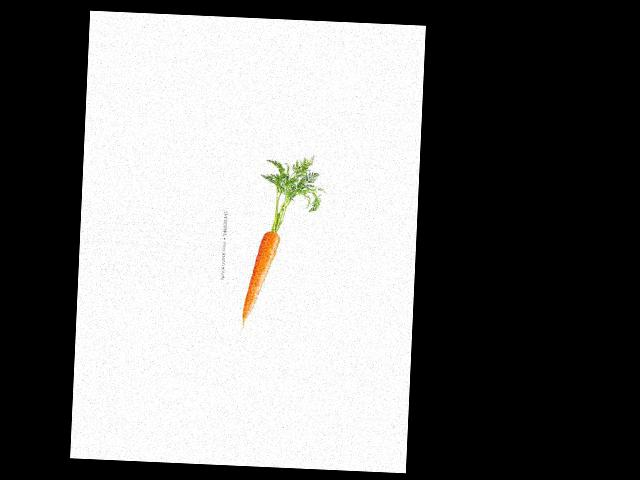carrot: (236, 228, 282, 328)
